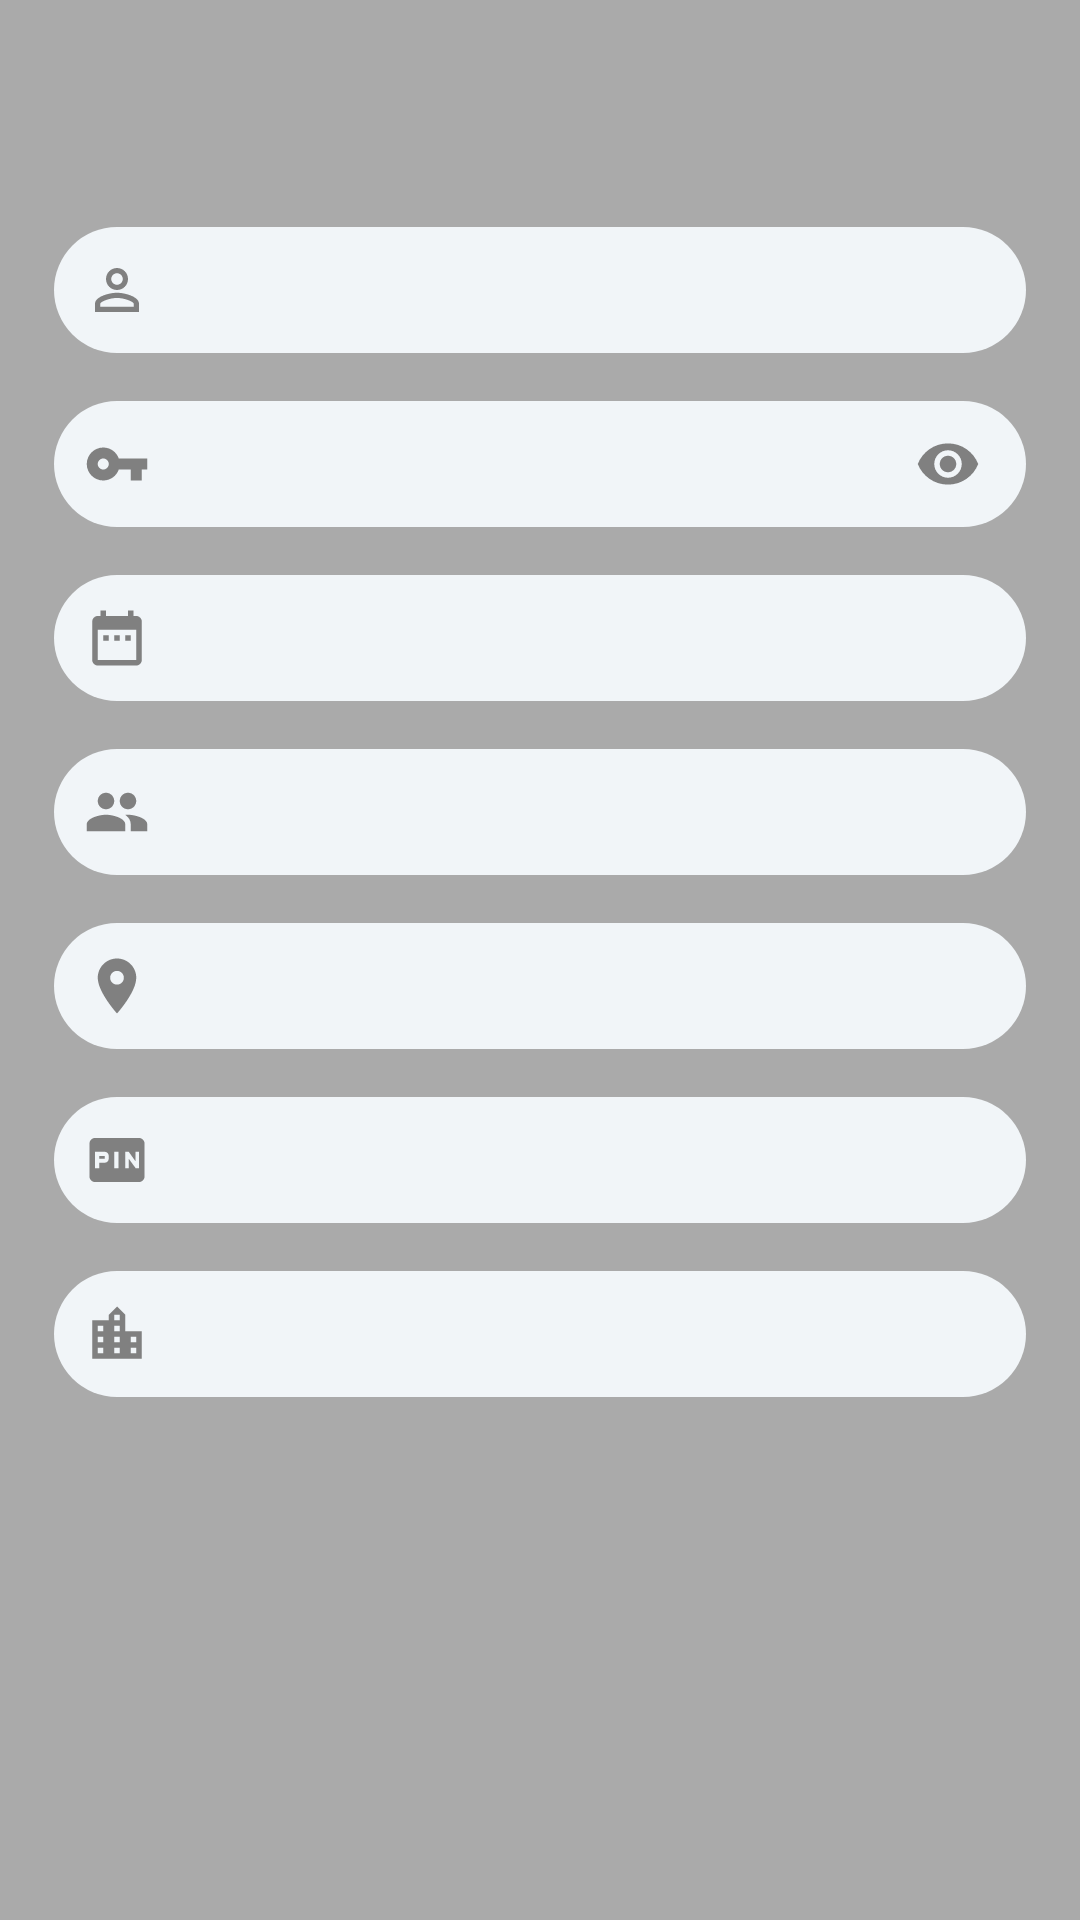

Named icons in this screenshot (1080x1920) and their centers, (x,y):
Show Password Icon: (948,464)
